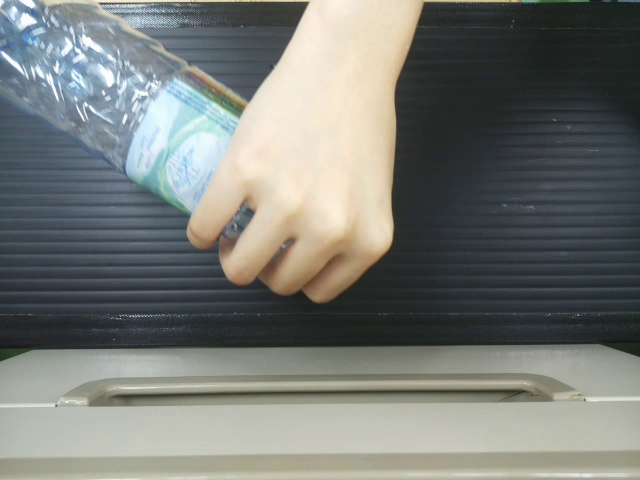bottle: (0, 0, 233, 236)
